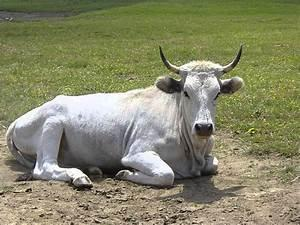cow: (5, 43, 244, 190)
